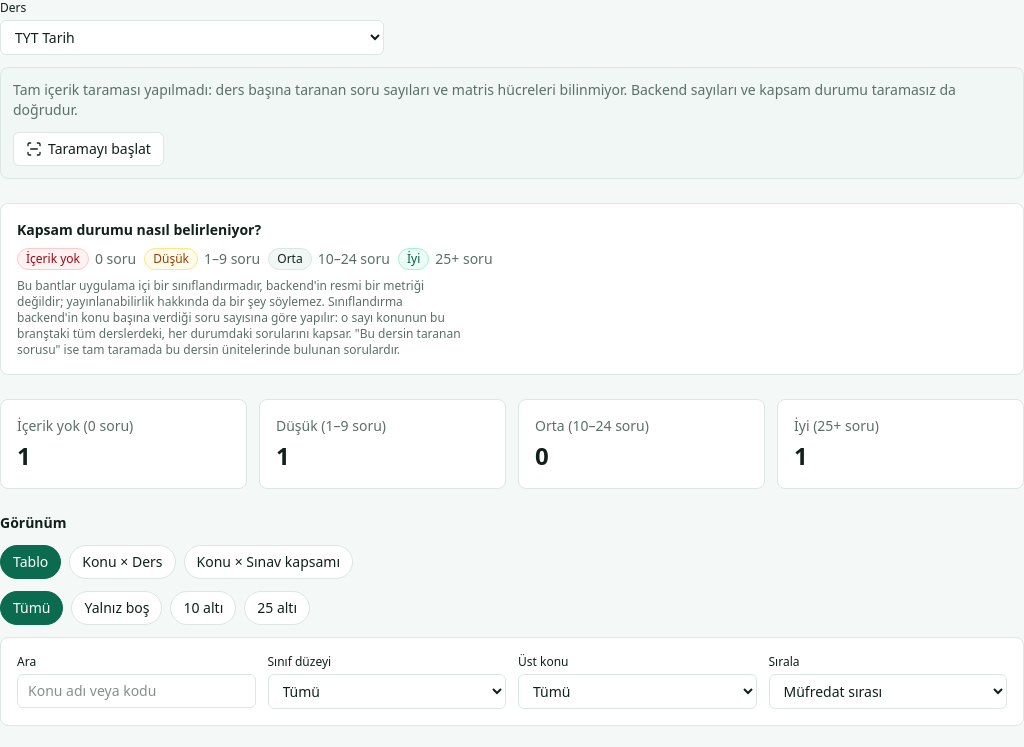
Scenario: CoverageCenter table › fills this course's scanned counts after a full scan
This screenshot has width=1024, height=747.
Click the button "Taramayı başlat".
click(88, 149)  # box x1=13 y1=132 x2=164 y2=166
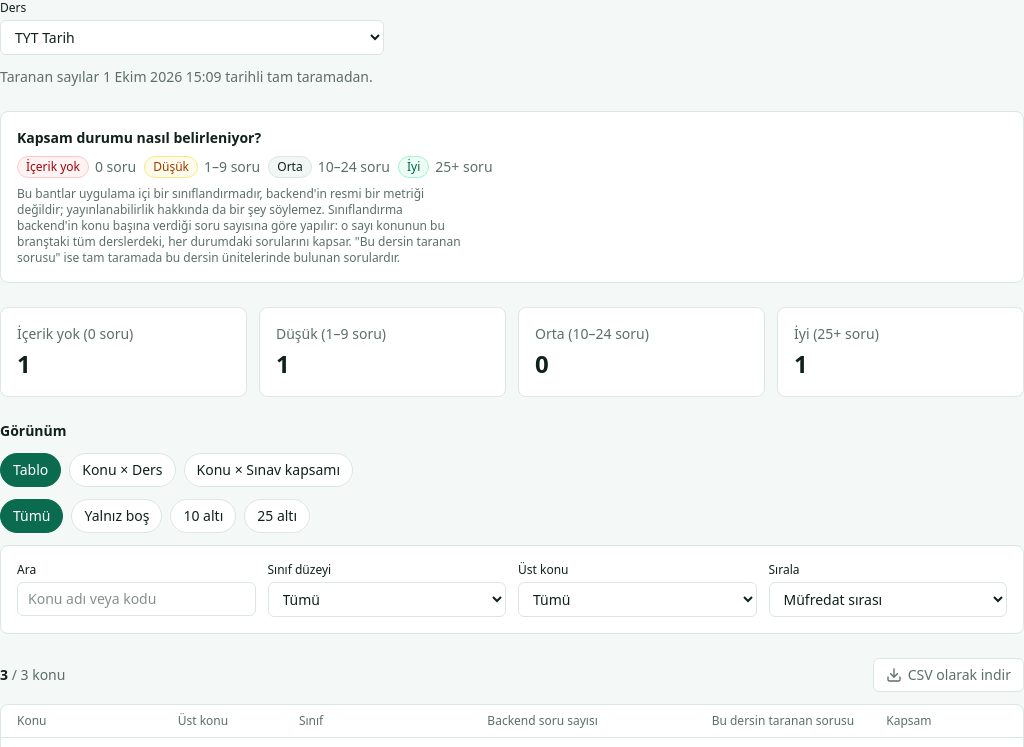
Expected: the text "tarihli tam taramadan" is shown, x1=225 y1=67 x2=369 y2=86
